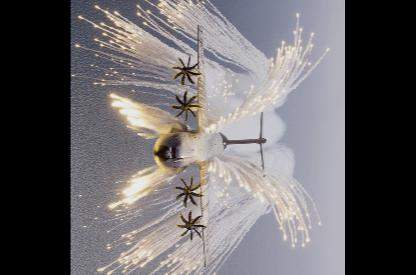A400M: (153, 23, 268, 264)
